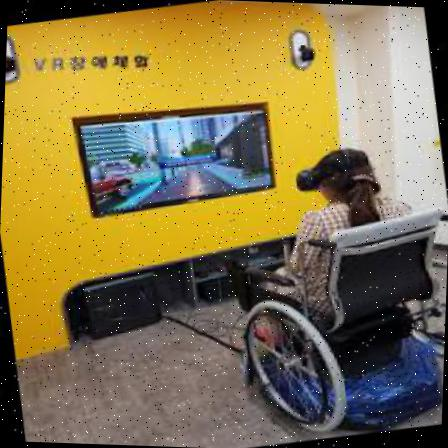wheel: (207, 128, 448, 447)
